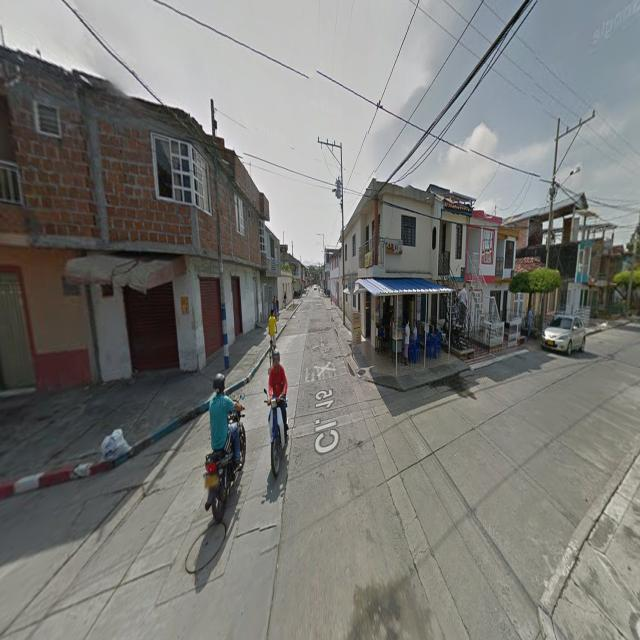Fachada: (77, 78, 269, 380), (0, 46, 104, 388), (350, 179, 473, 363), (465, 210, 517, 349), (509, 256, 562, 336), (261, 221, 281, 320), (343, 215, 360, 313), (276, 266, 293, 314), (329, 250, 343, 307)
Poste: (546, 110, 596, 266), (213, 156, 230, 370), (318, 138, 345, 234), (211, 99, 217, 140), (341, 240, 345, 286), (343, 303, 346, 324)
